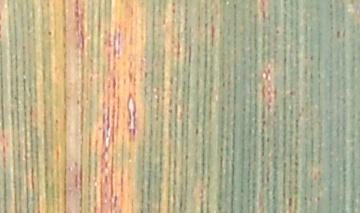tarspot: (286, 89, 296, 100), (44, 28, 54, 38), (335, 28, 341, 42), (194, 126, 202, 135), (342, 30, 347, 44)
